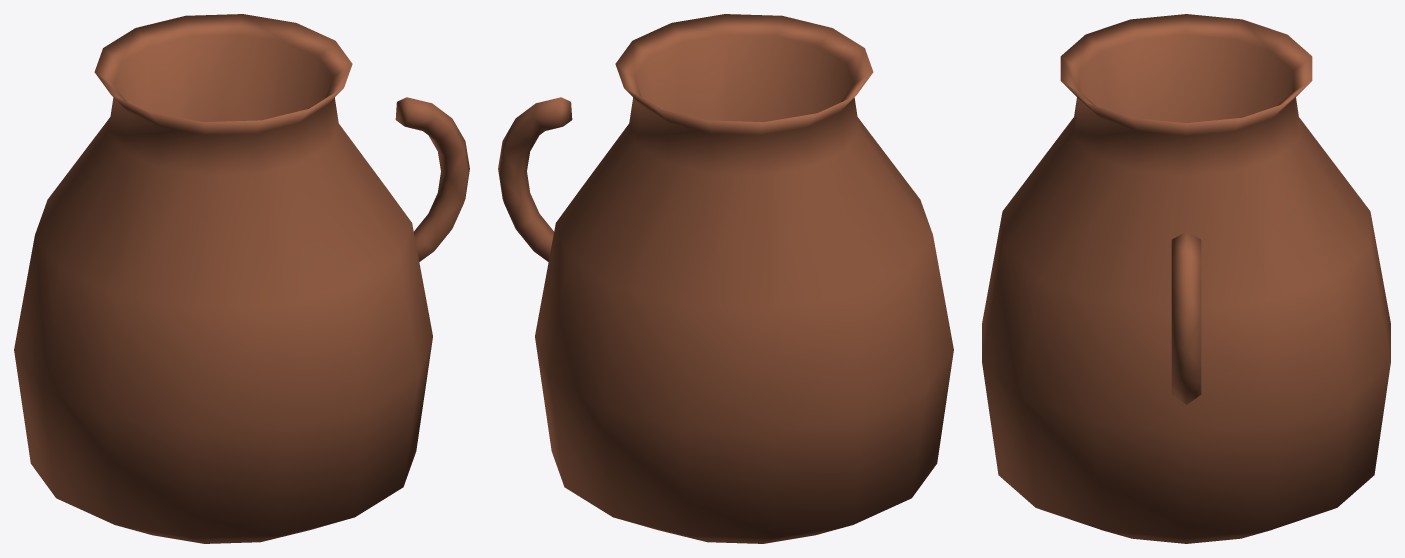
Rendered from crock.glb.
The picture shows the model from 3 angles, left to right: view 1: azimuth 30°, elevation 25°; view 2: azimuth 150°, elevation 25°; view 3: azimuth 270°, elevation 25°; orthographic projection.
Visible parts, largest first — view 1: crock; view 2: crock; view 3: crock.
Boxes of the visible parts, box(x1,y1,x2,y2) form: crock: box(14, 14, 469, 543); crock: box(498, 14, 953, 543); crock: box(982, 14, 1390, 543).
Bounding box in the file's own units: 0.3814 × 0.36 × 0.3159.
